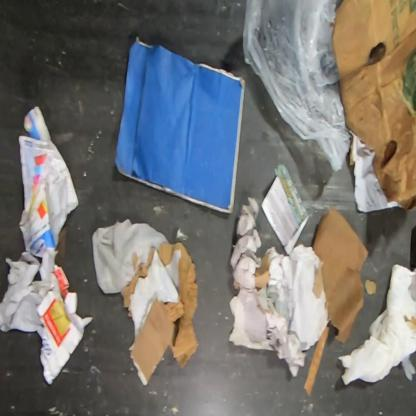cardboard: (110, 32, 246, 218), (254, 206, 369, 396), (331, 0, 415, 215), (119, 242, 199, 385), (364, 276, 378, 296)
soft_plastic: (242, 0, 352, 172)
